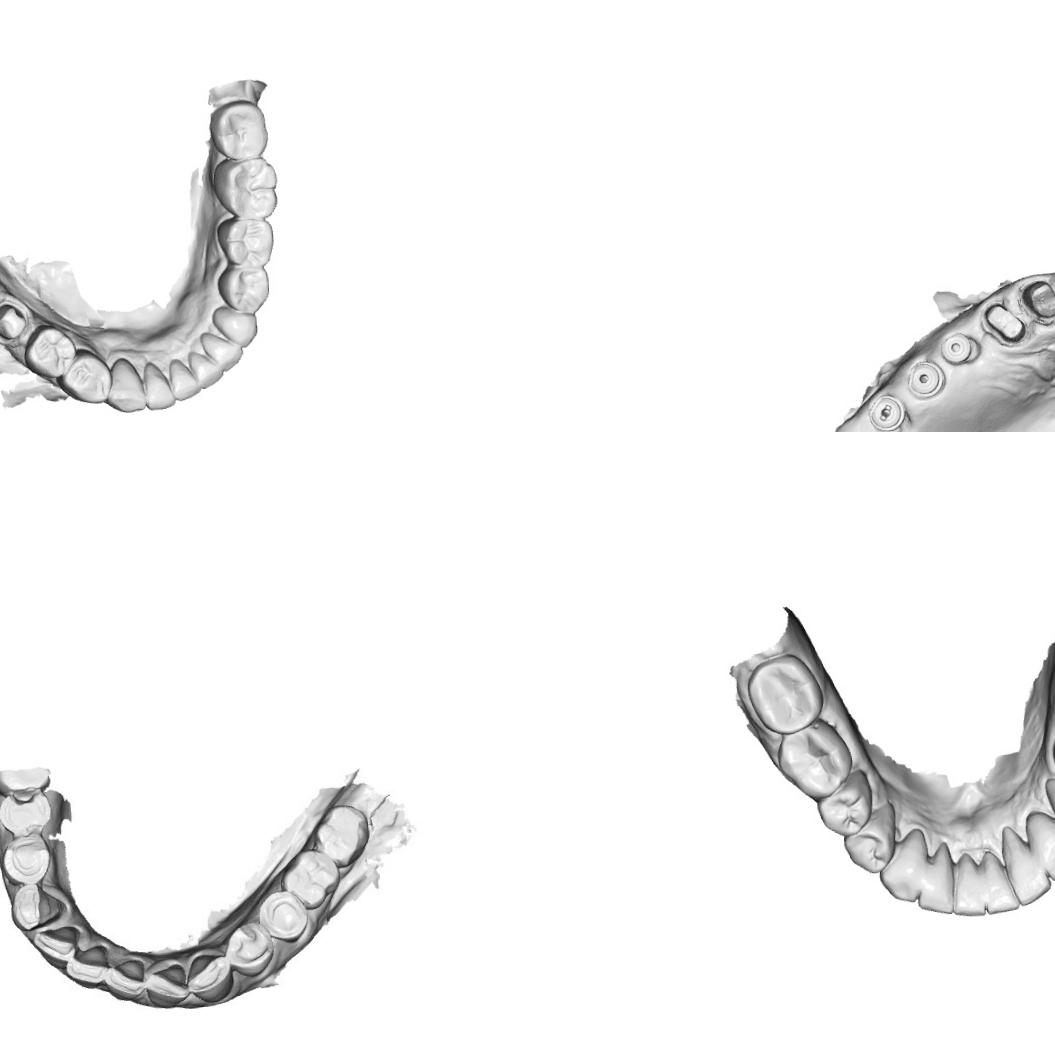abutment: (0, 298, 28, 341)
canine: (875, 827, 930, 904), (5, 881, 65, 930), (184, 948, 233, 1001), (102, 355, 146, 414), (1023, 807, 1055, 882), (210, 302, 258, 350)
crown: (982, 301, 1026, 344), (1019, 277, 1055, 319)
implant: (904, 358, 946, 400), (939, 330, 980, 366)
implant_minus: (865, 392, 907, 432)
incisor: (1000, 822, 1052, 906), (913, 840, 956, 916), (980, 848, 1020, 914), (948, 850, 986, 917), (33, 924, 83, 967), (144, 960, 185, 1008), (140, 360, 176, 411), (105, 955, 143, 1003), (66, 943, 108, 983), (166, 356, 202, 402), (186, 348, 224, 390), (208, 336, 245, 373)
molar: (742, 650, 826, 737), (774, 716, 854, 800), (210, 156, 279, 221), (314, 800, 373, 868), (207, 98, 269, 160), (281, 846, 336, 914)
premolar: (839, 799, 898, 875), (813, 766, 874, 839), (53, 346, 113, 406), (0, 786, 61, 842), (22, 321, 78, 379), (215, 215, 274, 268), (215, 264, 270, 314), (2, 838, 56, 886), (228, 924, 274, 976), (266, 894, 307, 938)
